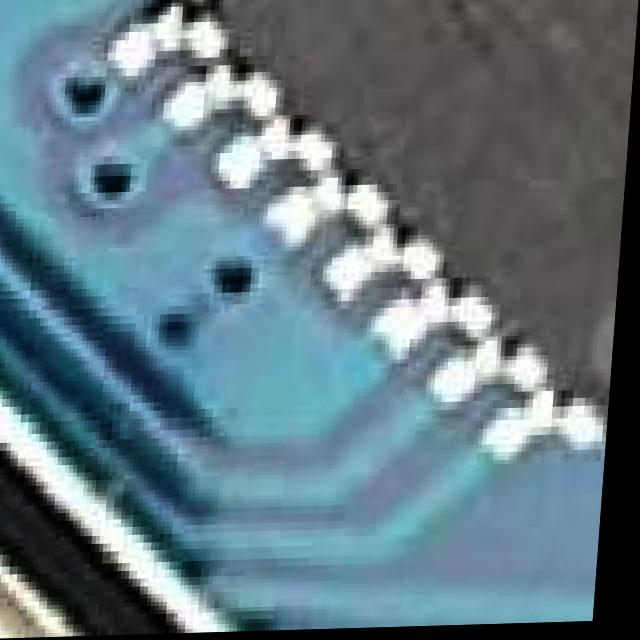IC: (168, 0, 640, 475)
clock: (0, 397, 264, 640)
